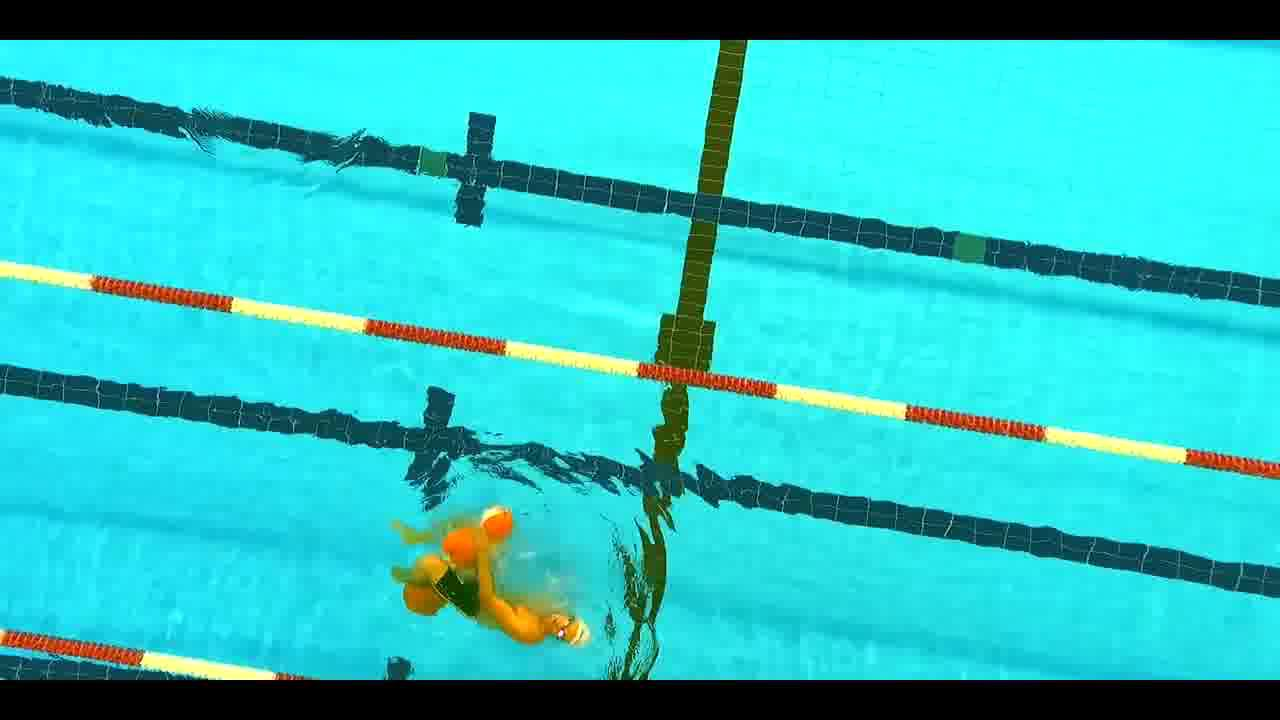swimmer: (408, 556, 592, 649)
